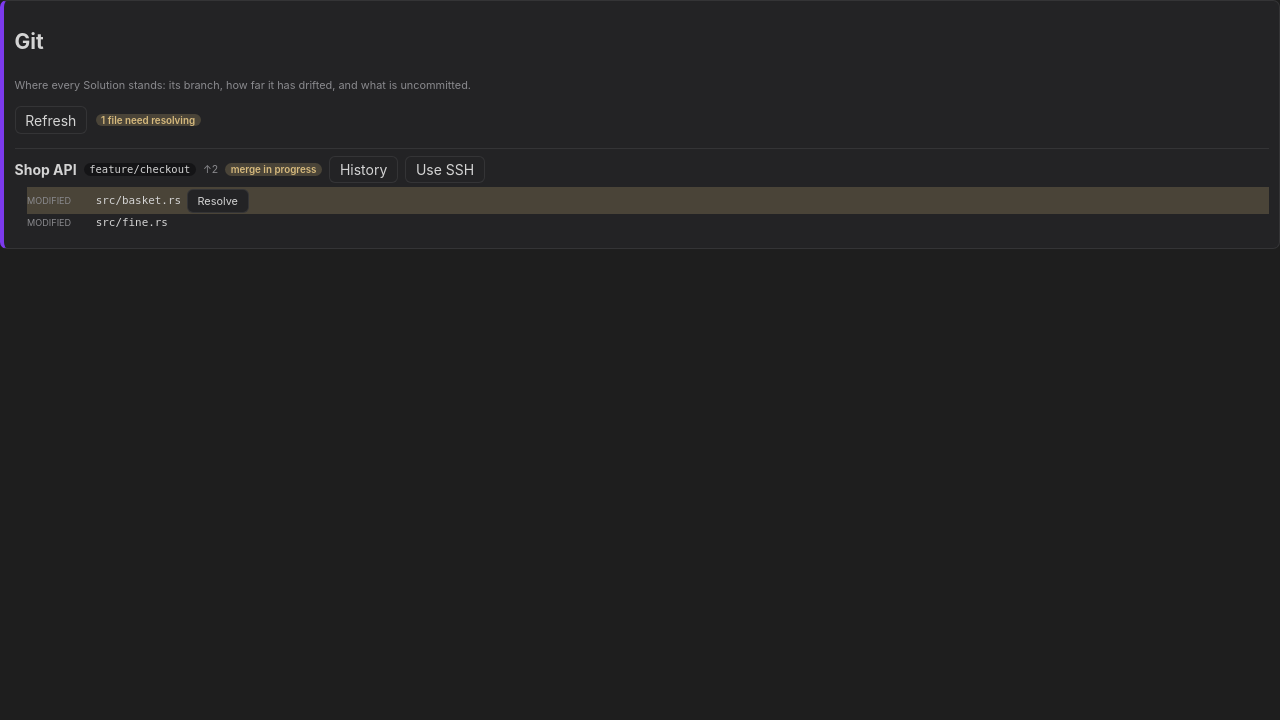
Test: GitExplorer › offers to resolve a conflicted file and opens the three panes
Check: the text "1 file need resolving" is shown, box [96, 114, 201, 126]
Click the button with aria-label "Resolve src/basket.rs in Shop API" at (218, 201), box [187, 189, 249, 213]
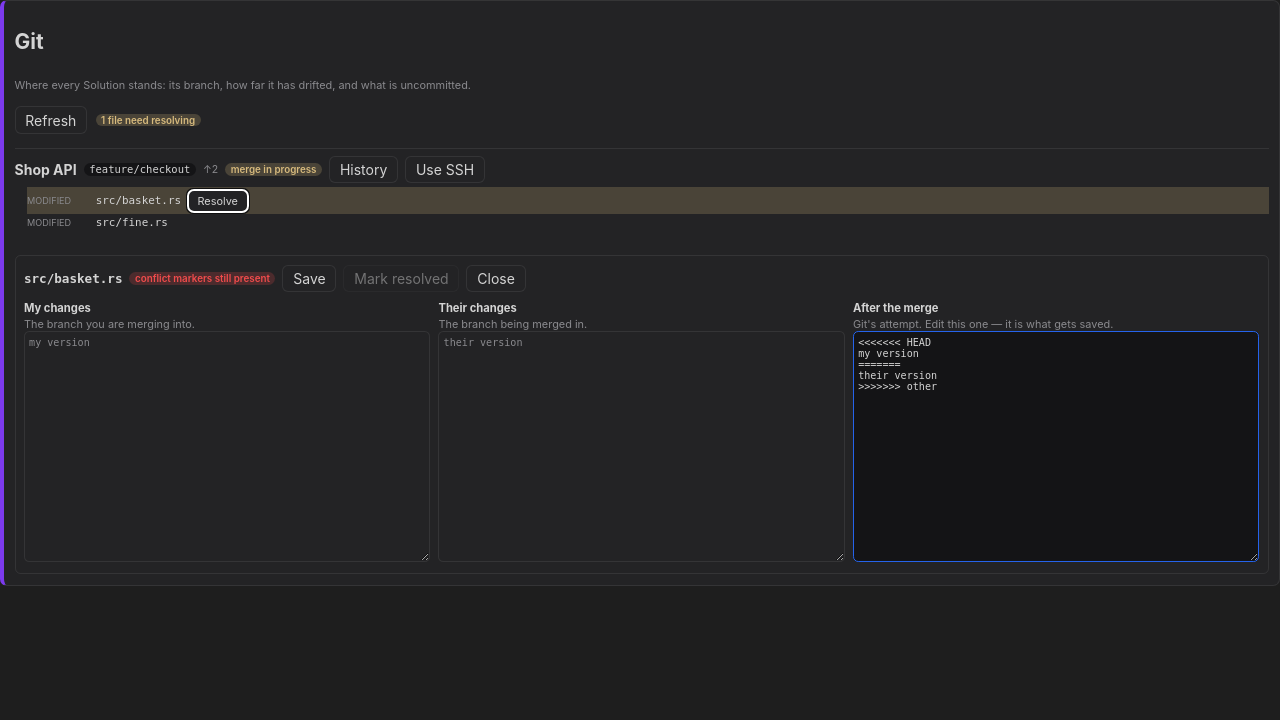
Check: the element named "Merge conflict in src/basket.rs" is shown, box [14, 255, 1268, 574]
Check: the text box labelled "My changes" holds "my version", box [24, 331, 430, 562]
Check: the text box labelled "Their changes" holds "their version", box [438, 331, 844, 562]
